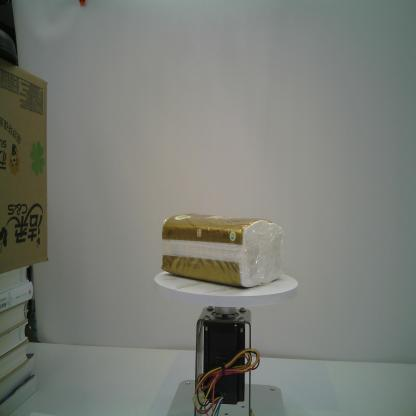Tissue: (162, 212, 284, 289)
